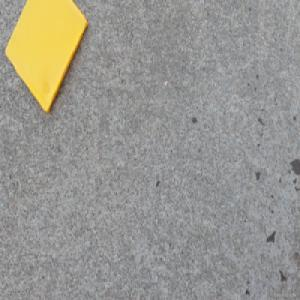PlasticPart: (3, 0, 88, 117)
